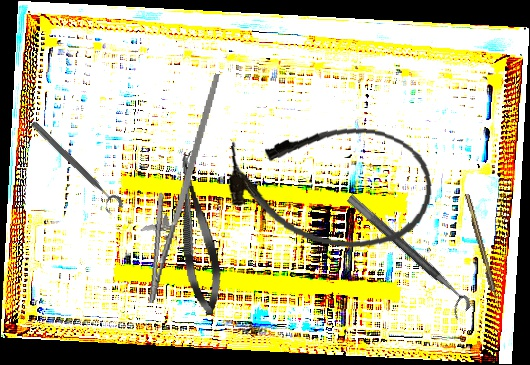Cannula: (220, 113, 439, 257)
Fixation Ring: (336, 193, 475, 321), (23, 117, 127, 219)
Hook Surgical: (464, 193, 500, 306)
Micro Scissor: (168, 149, 227, 318)
Needle Holder: (129, 65, 222, 309)
